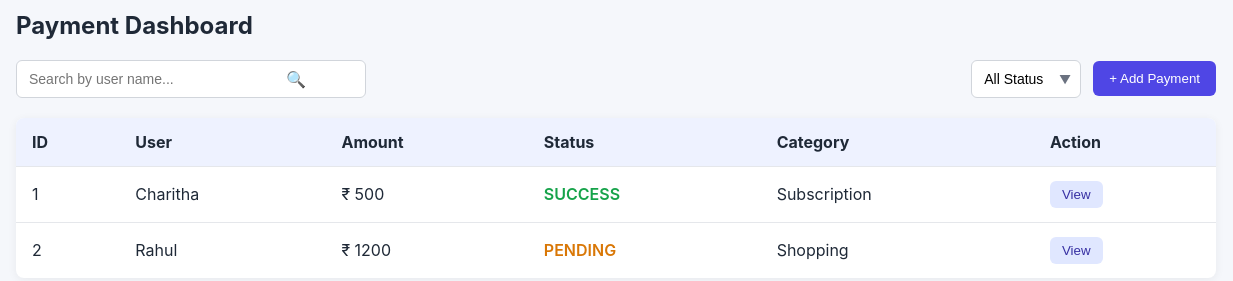
Test: PaymentList.vue › filters payments by status
The width and height of the screenshot is (1233, 281).
Select "Pending" in the dropdown at (1026, 79), box x1=971 y1=60 x2=1081 y2=98
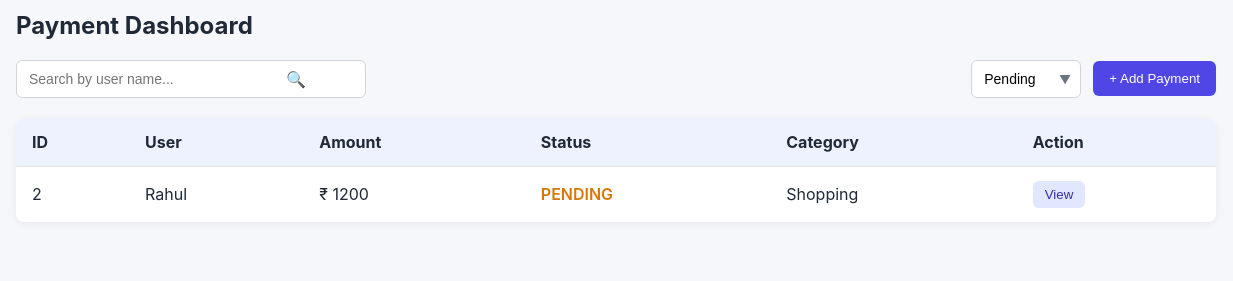
Expected: the text "Rahul" is shown, x1=129 y1=166 x2=303 y2=222
Expected: the text "Charitha" is gone
